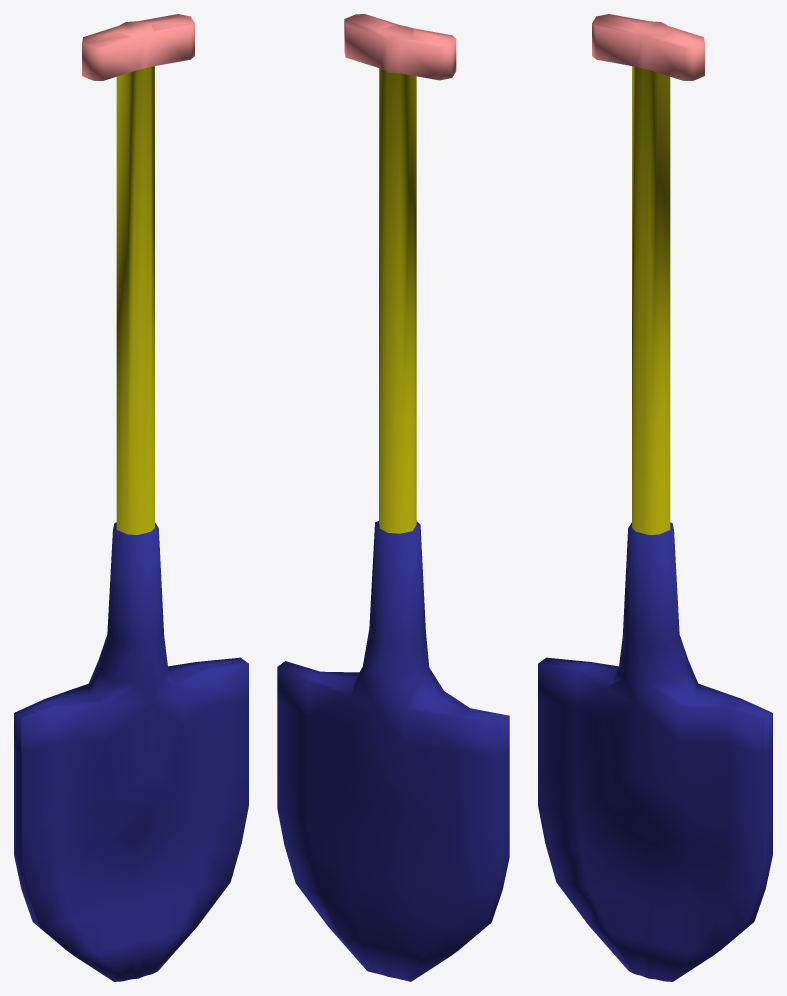
Rendered from shovel1.FBX.
3 renders of one model, left to right at view 1: azimuth 30°, elevation 25°; view 2: azimuth 150°, elevation 25°; view 3: azimuth 330°, elevation 25°, orthographic.
Parts seen in each view (by area): view 1: Box001; view 2: Box001; view 3: Box001.
Part boxes in pixels (x1,y1,x2,y2): Box001: (14, 14, 248, 981); Box001: (277, 14, 509, 981); Box001: (538, 14, 772, 981).
Size of the model in its own units: 15.86 by 63.36 by 4.94.
